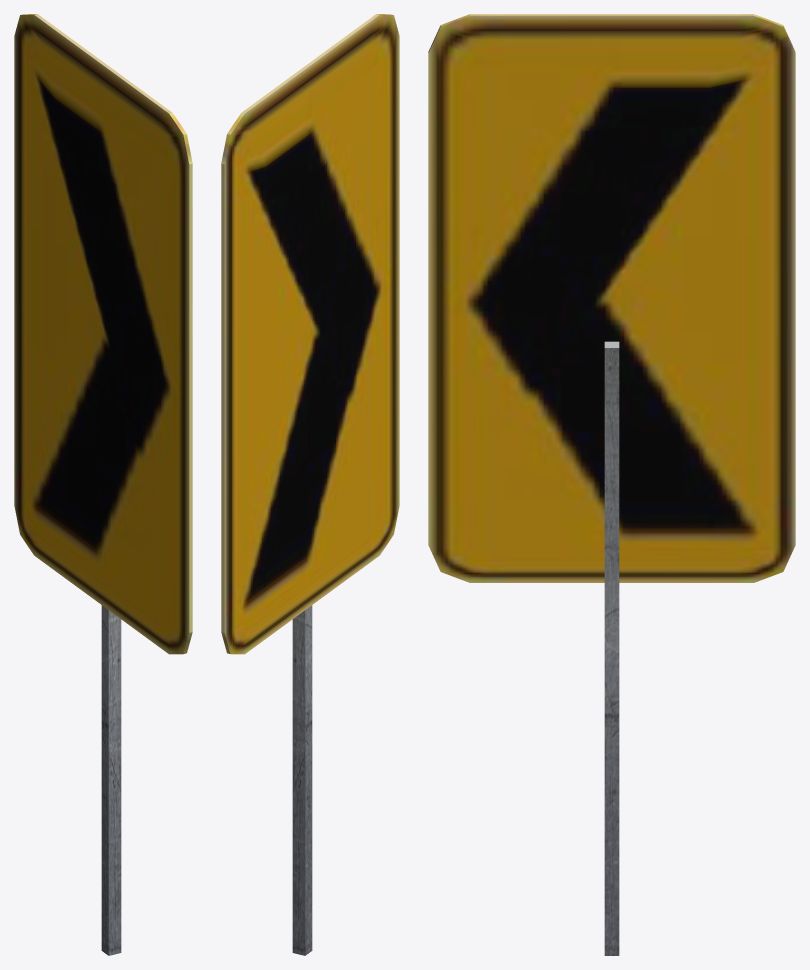
The model's file is sign-keepgoing.fbx.
3 renders of one model, left to right at view 1: azimuth 30°, elevation 25°; view 2: azimuth 150°, elevation 25°; view 3: azimuth 270°, elevation 25°, orthographic. The views are drawn at different scales.
Parts seen in each view (by area): view 1: Plane.055; view 2: Plane.055; view 3: Plane.055.
Boxes of the visible parts, left/top/right/bottom form: Plane.055: left=14, top=14, right=192, bottom=955; Plane.055: left=221, top=14, right=399, bottom=955; Plane.055: left=428, top=14, right=795, bottom=955.
Bounding box in the file's own units: 8.77 × 463 × 165.
